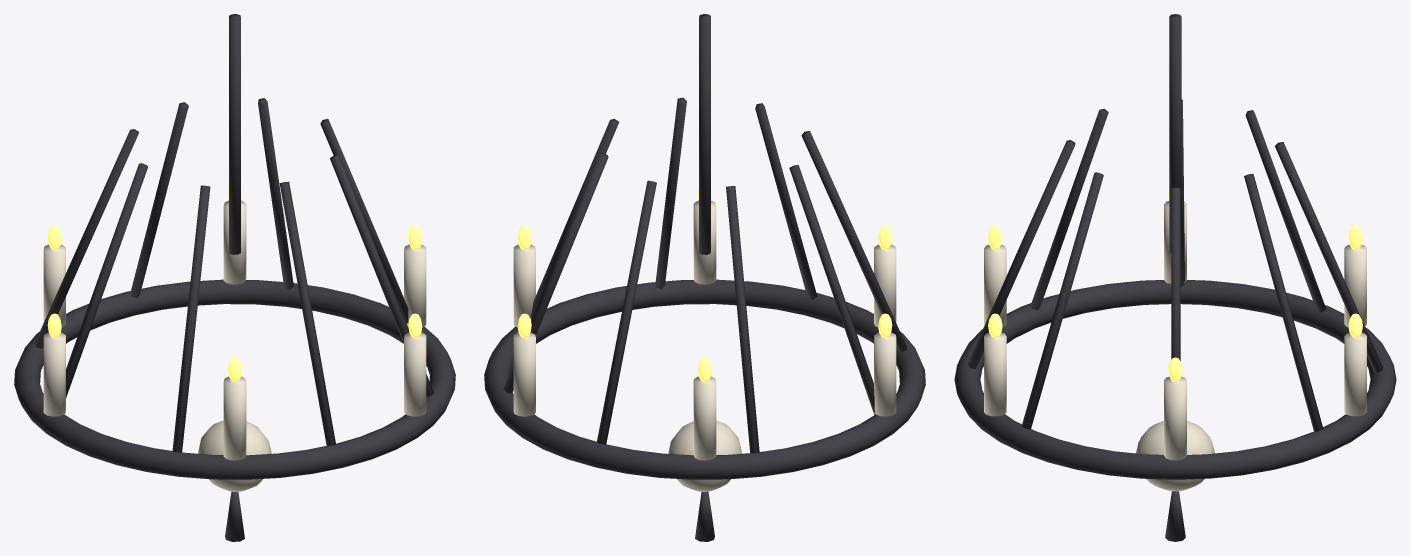
File: chandelier_iron_cage.glb
3 renders of one model, left to right at view 1: azimuth 30°, elevation 25°; view 2: azimuth 150°, elevation 25°; view 3: azimuth 270°, elevation 25°, orthographic.
Visible parts, largest first — view 1: GD_chandelier_iron_cage__m0, GD_chandelier_iron_cage__m1, GD_chandelier_iron_cage__m3, GD_chandelier_iron_cage__m2; view 2: GD_chandelier_iron_cage__m0, GD_chandelier_iron_cage__m1, GD_chandelier_iron_cage__m3, GD_chandelier_iron_cage__m2; view 3: GD_chandelier_iron_cage__m0, GD_chandelier_iron_cage__m1, GD_chandelier_iron_cage__m3, GD_chandelier_iron_cage__m2.
Part boxes in pixels (box(x1,y1,x2,y2)): GD_chandelier_iron_cage__m0: box(14, 14, 455, 541); GD_chandelier_iron_cage__m1: box(43, 200, 426, 460); GD_chandelier_iron_cage__m3: box(198, 420, 271, 491); GD_chandelier_iron_cage__m2: box(47, 188, 422, 381); GD_chandelier_iron_cage__m0: box(484, 14, 925, 541); GD_chandelier_iron_cage__m1: box(513, 200, 896, 460); GD_chandelier_iron_cage__m3: box(668, 420, 741, 491); GD_chandelier_iron_cage__m2: box(517, 188, 892, 381); GD_chandelier_iron_cage__m0: box(954, 14, 1396, 541); GD_chandelier_iron_cage__m1: box(984, 201, 1366, 460); GD_chandelier_iron_cage__m3: box(1136, 421, 1214, 491); GD_chandelier_iron_cage__m2: box(988, 188, 1362, 381).
Bounding box in the file's own units: 0.85 × 1.1 × 0.85.
